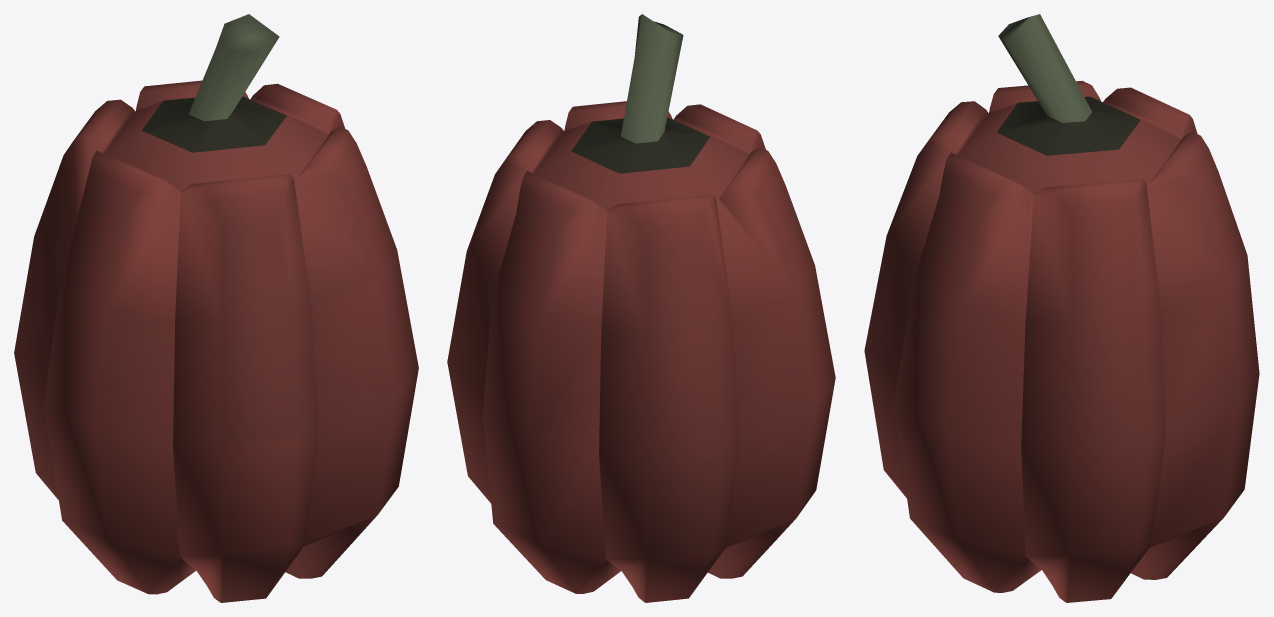
The model's file is Pepper.fbx.
3 renders of one model, left to right at view 1: azimuth 30°, elevation 25°; view 2: azimuth 150°, elevation 25°; view 3: azimuth 270°, elevation 25°, orthographic. The views are drawn at different scales.
Parts seen in each view (by area): view 1: BezierCurve; view 2: BezierCurve; view 3: BezierCurve.
Boxes of the visible parts, x1,y1,x2,y2 form: BezierCurve: (14, 14, 418, 602); BezierCurve: (447, 14, 835, 602); BezierCurve: (864, 14, 1259, 602).
Bounding box in the file's own units: 28.09 × 42.09 × 27.44.
